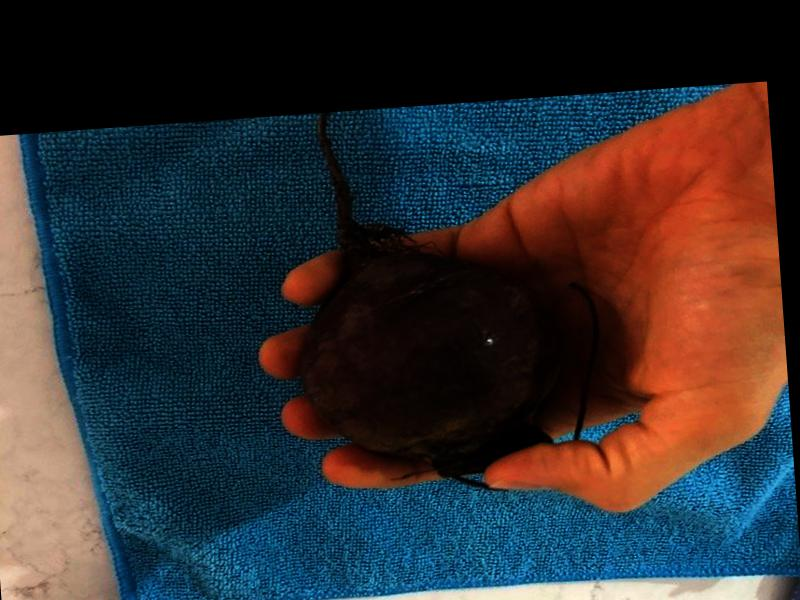Beet: (281, 94, 607, 503)
